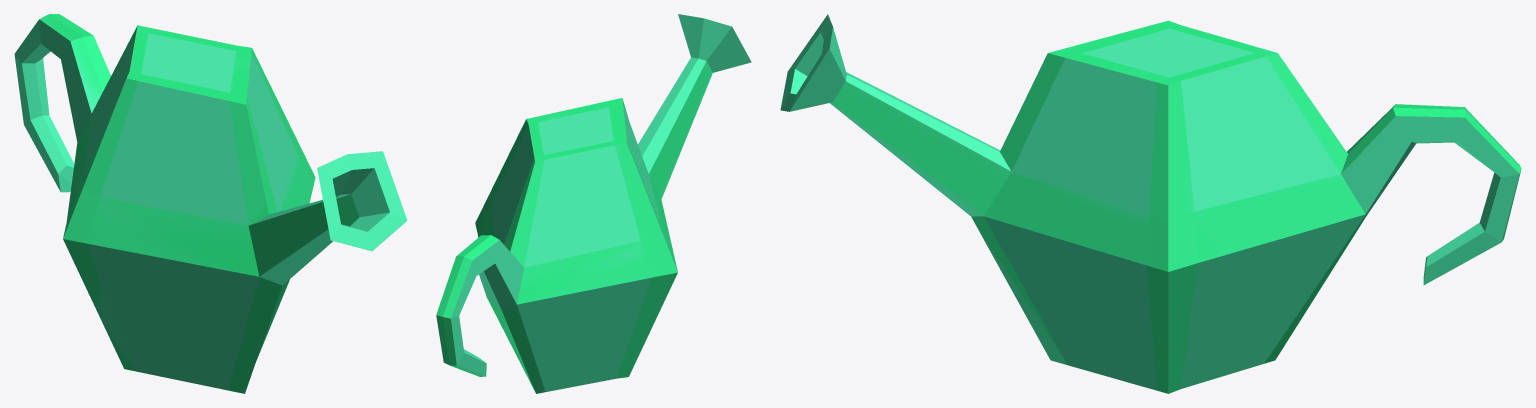
Rendered from regador.fbx.
The picture shows the model from 3 angles, left to right: view 1: azimuth 30°, elevation 25°; view 2: azimuth 150°, elevation 25°; view 3: azimuth 270°, elevation 25°; orthographic projection. The views are drawn at different scales.
Parts seen in each view (by area): view 1: Cube; view 2: Cube; view 3: Cube.
Boxes of the visible parts, box(x1,y1,x2,y2) form: Cube: box(14, 14, 407, 393); Cube: box(436, 14, 751, 393); Cube: box(780, 14, 1521, 393).
Size of the model in its own units: 182 by 217 by 437.
1 material, 1 textured.
